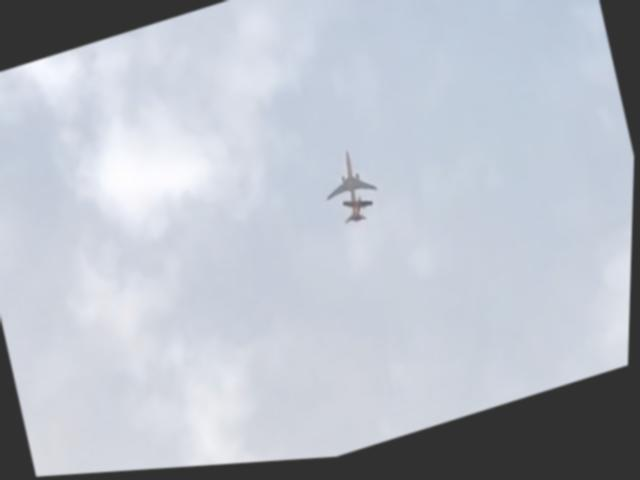plane: (319, 150, 386, 235), (340, 195, 377, 231)
